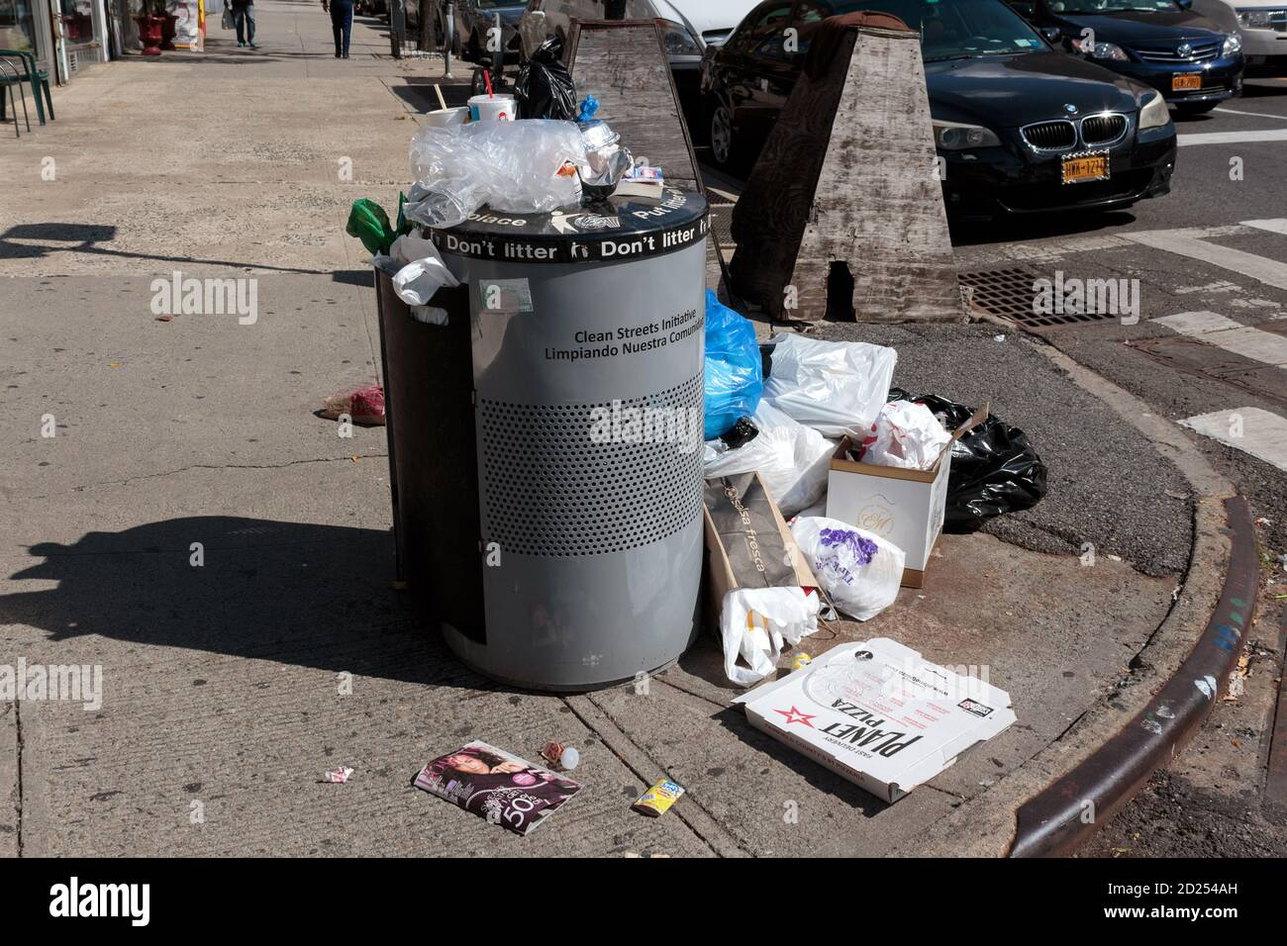Car: (716, 1, 1197, 244)
TrashBin: (330, 117, 740, 710)
